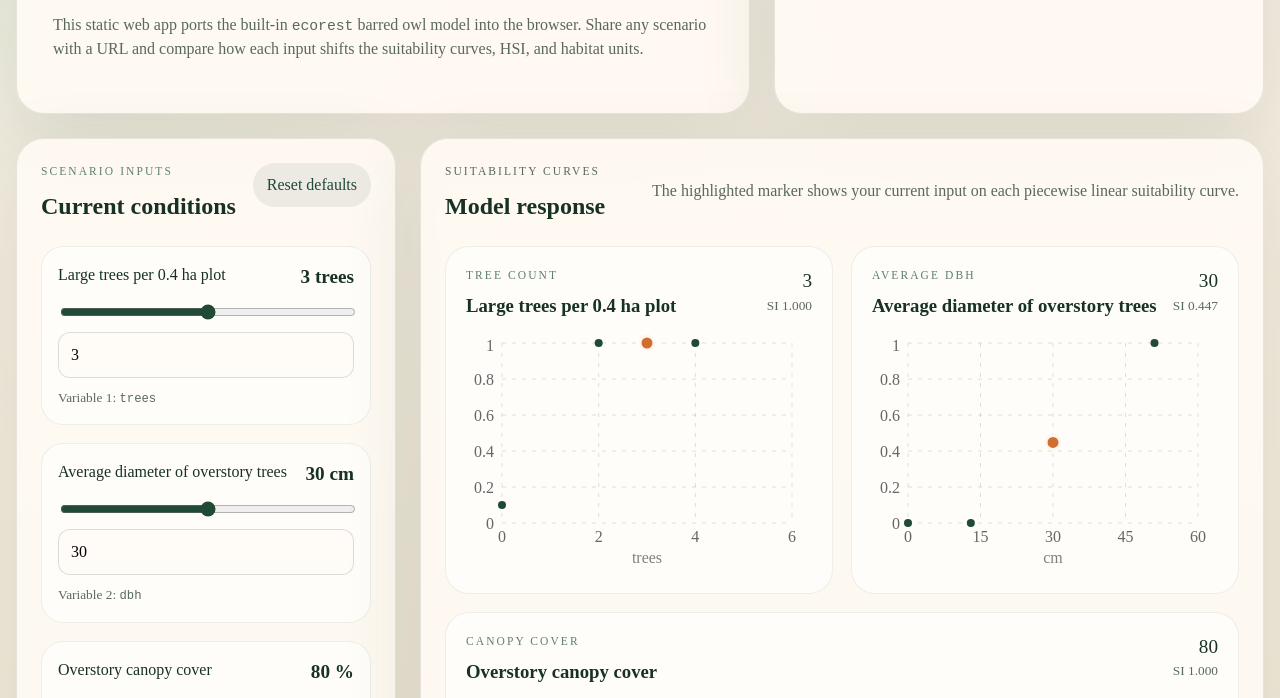
Test: App › restores state from the URL and updates results when controls move
(page scrolled)
Expected: the number field named "Average diameter of overstory trees value" holds "30", [58,529,354,575]
Replace the text in the number field named "Large trees per 0.4 ha plot value" with "4": (206, 355) [58,332,354,378]
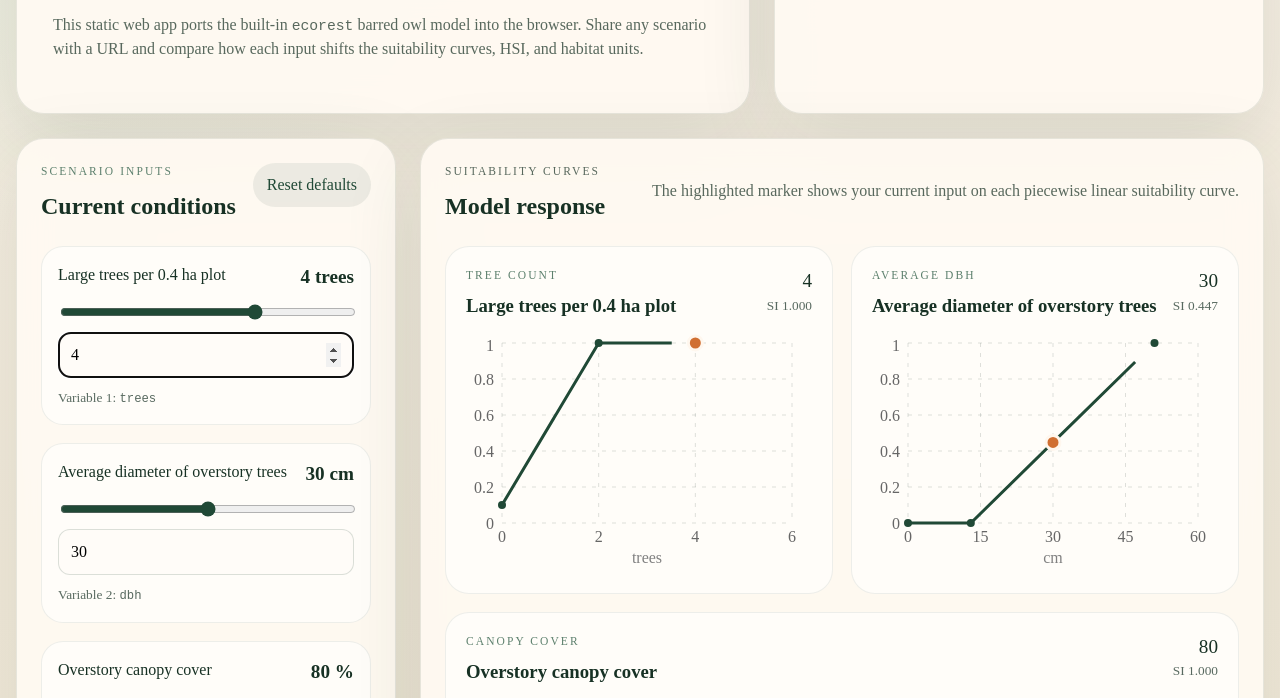
Now the slider labelled "Large trees per 0.4 ha plot" holds "4", box [60,304,356,320]
